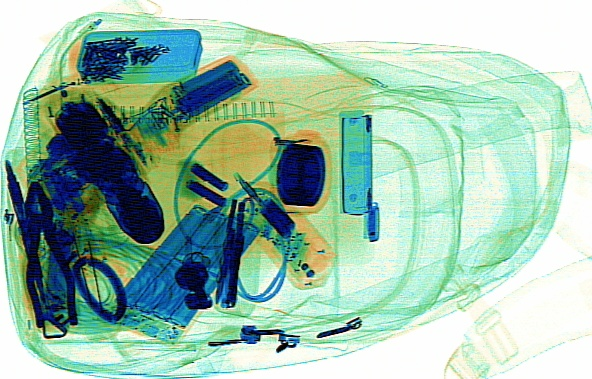powerbank: (105, 203, 266, 351)
